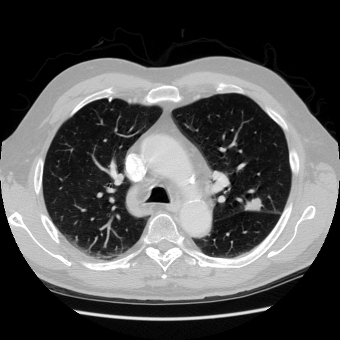nodule: (247, 198, 261, 212)
